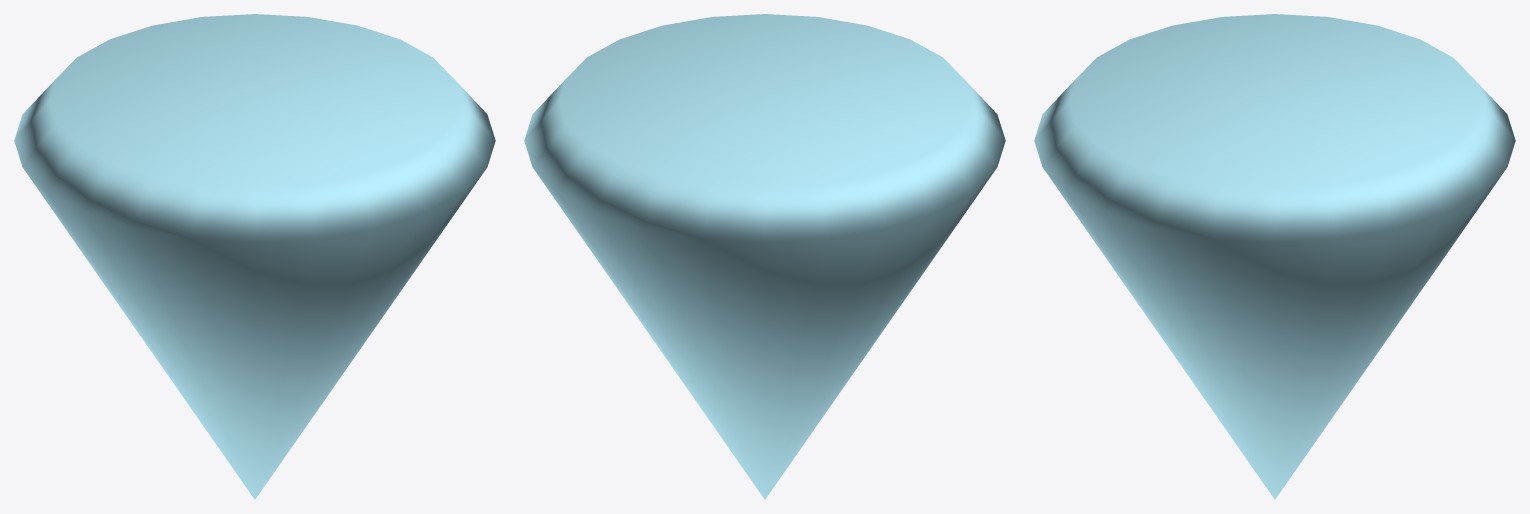
The model's file is StruggleOrbCone.glb.
3 renders of one model, left to right at view 1: azimuth 30°, elevation 25°; view 2: azimuth 150°, elevation 25°; view 3: azimuth 270°, elevation 25°, orthographic.
Parts seen in each view (by area): view 1: Orb; view 2: Orb; view 3: Orb.
Boxes of the visible parts, bbox=[...] form: Orb: bbox=[14, 14, 495, 499]; Orb: bbox=[524, 14, 1005, 499]; Orb: bbox=[1034, 14, 1515, 499].
Bounding box in the file's own units: 1.64 × 1.5 × 1.64.
